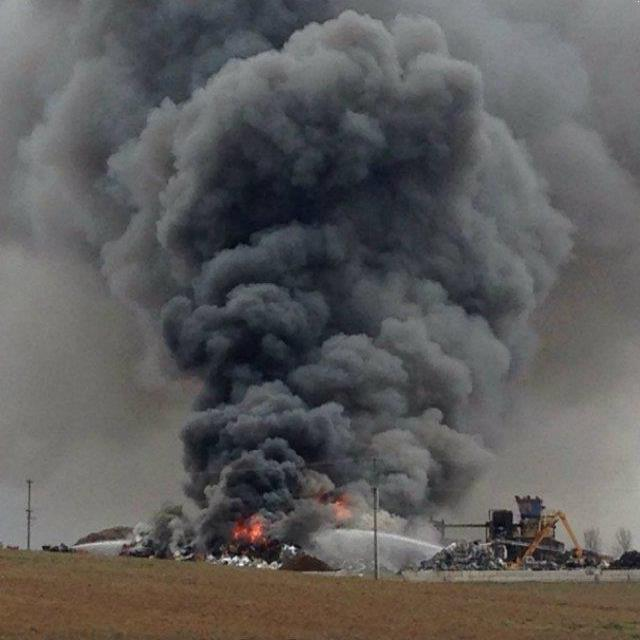Fire: (232, 517, 260, 544), (338, 494, 350, 518)
Smoke: (1, 0, 640, 471), (125, 474, 228, 565), (338, 522, 446, 576), (264, 512, 336, 568), (230, 474, 334, 511), (335, 472, 526, 492)
